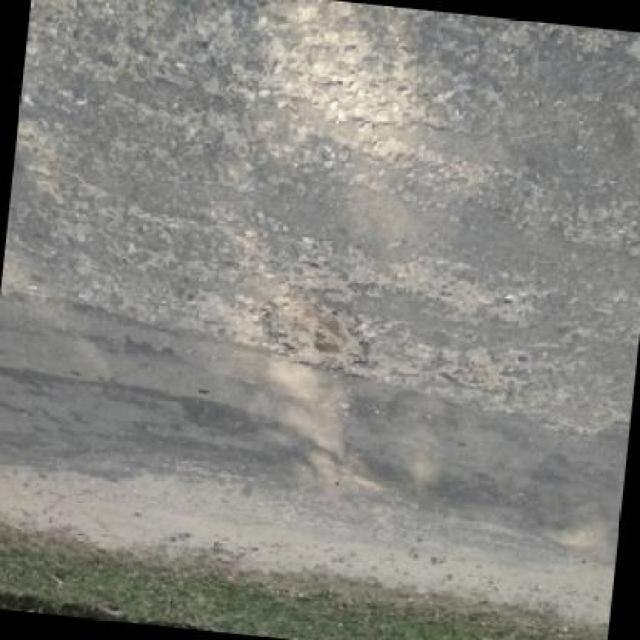pothole: (257, 291, 380, 384)
